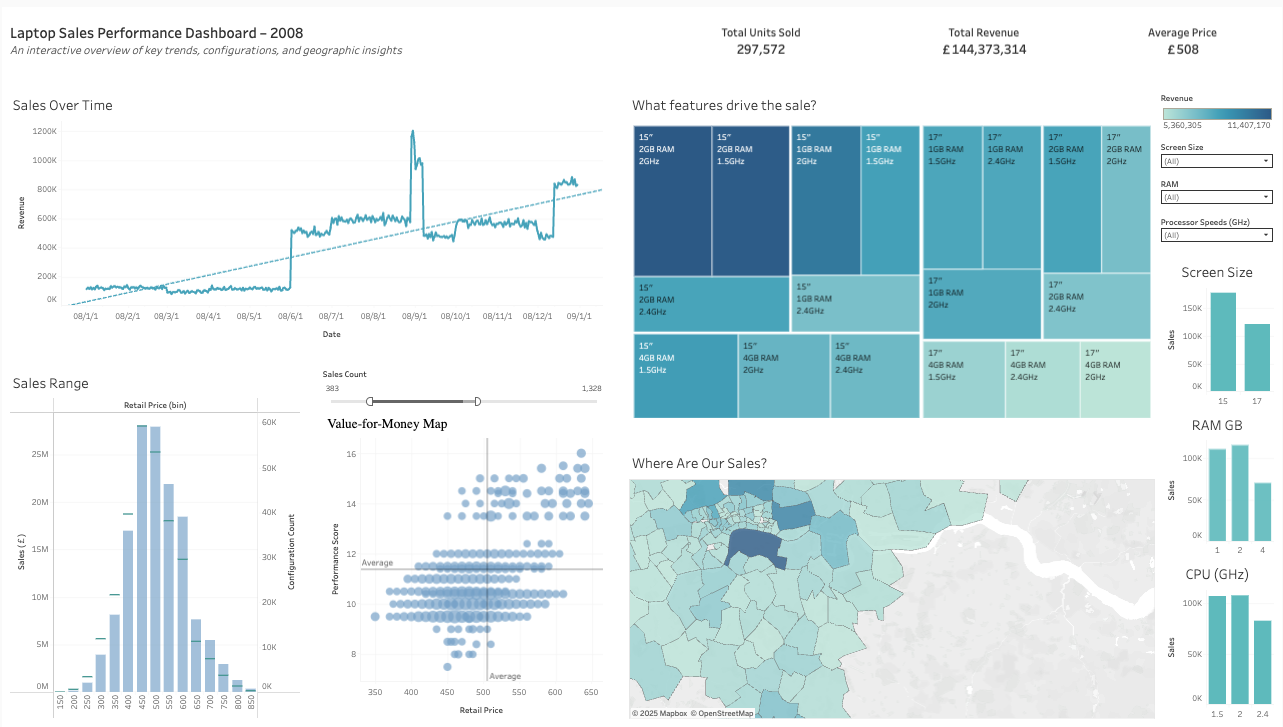

What the dashboard file says about the page in this screenshot:
{"tool":"tableau","page":{"name":"Dashboard 2","canvas":[1920,1080],"ordinal":0},"visuals":[{"type":"text","box":[8,8,951.9,84]},{"type":"worksheet","title":"KPI - Total Units Sold","mark":"Text","box":[959.9,8,357,84]},{"type":"worksheet","title":"KPI - Total Revenue","mark":"Text","box":[1316.9,8,312.2,84]},{"type":"worksheet","title":"KPI - Average Price","mark":"Text","box":[1629.2,8,282.8,84]},{"type":"worksheet","title":"Sales Over Time","mark":"Automatic","rows":["Retail Price"],"cols":["Date"],"box":[8,124,897,384]},{"type":"worksheet","title":"Tree Map","mark":"Automatic","box":[937,124,797,503]},{"type":"legend","title":"Tree Map","param":"[federated.1nmwjgt14hntxc118f59l0f6qgbo].[sum:Retail Price:qk]","box":[1734,124,178,73]},{"type":"filter","title":"Tree Map","param":"[federated.1nmwjgt14hntxc118f59l0f6qgbo].[none:Screen Size (Inches):ok]","box":[1734,197,178,55]},{"type":"filter","title":"Tree Map","param":"[federated.1nmwjgt14hntxc118f59l0f6qgbo].[none:Calculation_598697281873289217:nk","box":[1734,252,178,57]},{"type":"filter","title":"Tree Map","param":"[federated.1nmwjgt14hntxc118f59l0f6qgbo].[none:Processor Speeds (GHz):ok]","box":[1734,309,178,65]},{"type":"worksheet","title":"Screen Drop","mark":"Automatic","rows":["LaptopSalesData.csv_7E90258D1D7B401BAD672DA8C67EB055"],"cols":["Screen Size (Inches)"],"box":[1734,374,178,229]},{"type":"worksheet","title":"Price Buckets","mark":"GanttBar","rows":["Retail Price","Configuration (LaptopConfigurations.csv)"],"cols":["Retail Price (bin)"],"box":[8,540,444,532]},{"type":"filter","title":"Value-for-Money","param":"[federated.1nmwjgt14hntxc118f59l0f6qgbo].[cnt:Configuration (LaptopConfiguration","box":[480,540,425,61]},{"type":"worksheet","title":"Value-for-Money","mark":"Circle","rows":["Calculation_598697281879646210"],"cols":["Retail Price"],"box":[480,601,425,471]},{"type":"worksheet","title":"RAM Drop","mark":"Bar","rows":["LaptopSalesData.csv_7E90258D1D7B401BAD672DA8C67EB055"],"cols":["RAM (GB)"],"box":[1734,603,178,224]},{"type":"worksheet","title":"Map","mark":"Multipolygon","box":[937,661,797,411]},{"type":"worksheet","title":"CPU Drop","mark":"Automatic","rows":["LaptopSalesData.csv_7E90258D1D7B401BAD672DA8C67EB055"],"cols":["Processor Speeds (GHz)"],"box":[1734,827,178,245]}]}

Visuals, with their boxes in screenshot pixels (x1, y1, x2, y2), scaled from the page's 1920x1080 canvas onto the 1283x727 screenshot:
text: left=5, top=5, right=641, bottom=62
"KPI - Total Units Sold" worksheet (Text marks): left=641, top=5, right=880, bottom=62
"KPI - Total Revenue" worksheet (Text marks): left=880, top=5, right=1089, bottom=62
"KPI - Average Price" worksheet (Text marks): left=1089, top=5, right=1278, bottom=62
"Sales Over Time" worksheet: left=5, top=83, right=605, bottom=342
"Tree Map" worksheet: left=626, top=83, right=1159, bottom=422
"Tree Map" legend: left=1159, top=83, right=1278, bottom=133
"Tree Map" filter: left=1159, top=133, right=1278, bottom=170
"Tree Map" filter: left=1159, top=170, right=1278, bottom=208
"Tree Map" filter: left=1159, top=208, right=1278, bottom=252
"Screen Drop" worksheet: left=1159, top=252, right=1278, bottom=406
"Price Buckets" worksheet (GanttBar marks): left=5, top=364, right=302, bottom=722
"Value-for-Money" filter: left=321, top=364, right=605, bottom=405
"Value-for-Money" worksheet (Circle marks): left=321, top=405, right=605, bottom=722
"RAM Drop" worksheet (Bar marks): left=1159, top=406, right=1278, bottom=557
"Map" worksheet (Multipolygon marks): left=626, top=445, right=1159, bottom=722
"CPU Drop" worksheet: left=1159, top=557, right=1278, bottom=722
